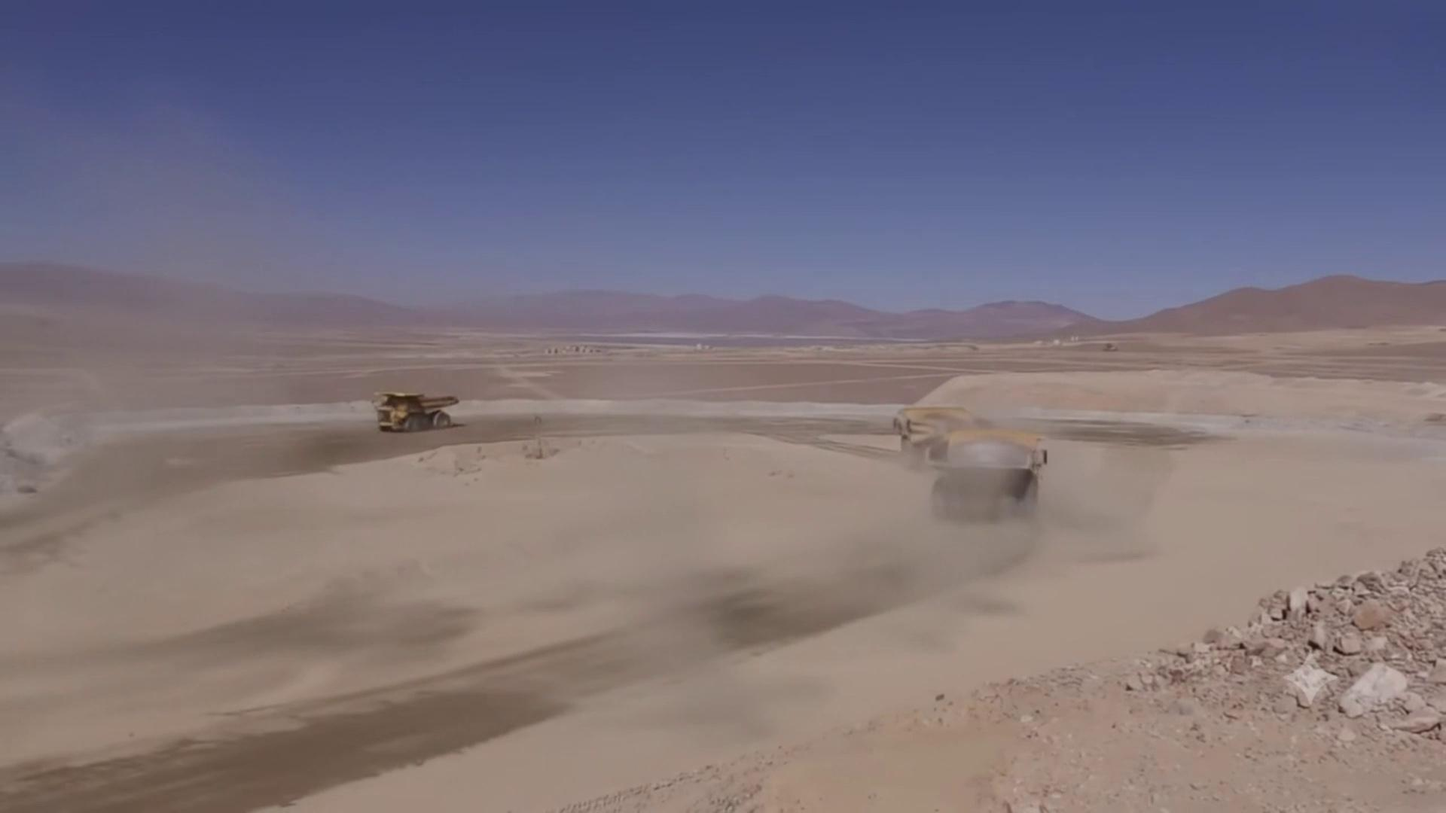CAEX: (925, 426, 1048, 521), (893, 406, 990, 467), (372, 392, 459, 432)
